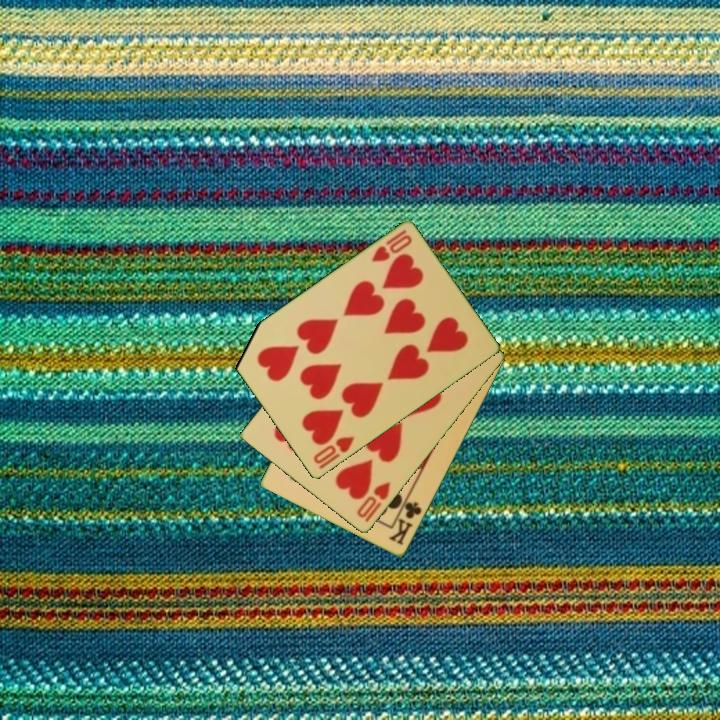10h: (368, 226, 415, 266), (310, 433, 357, 472), (353, 478, 394, 521)
Kc: (386, 493, 425, 548)
